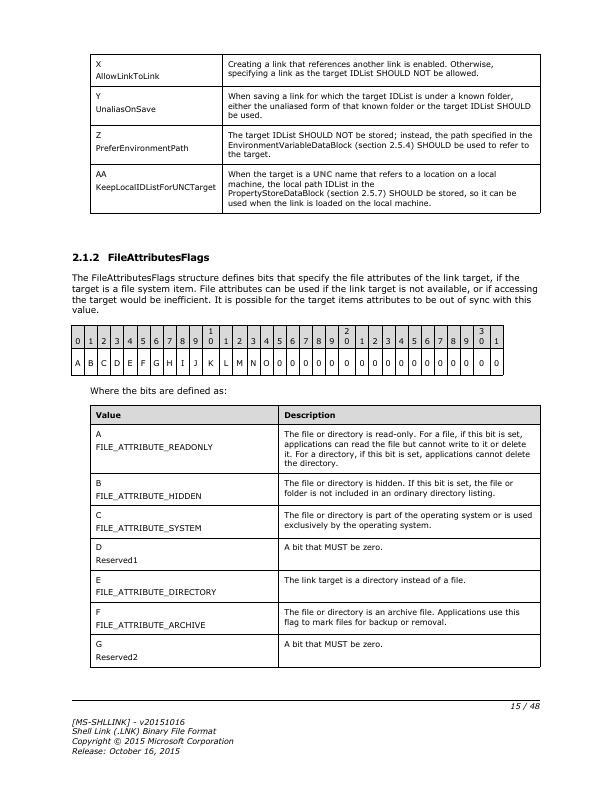table: (88, 401, 543, 671), (90, 52, 545, 215), (68, 323, 505, 378)
text: (68, 270, 540, 315), (68, 715, 235, 755), (66, 250, 215, 266), (86, 385, 230, 398)
